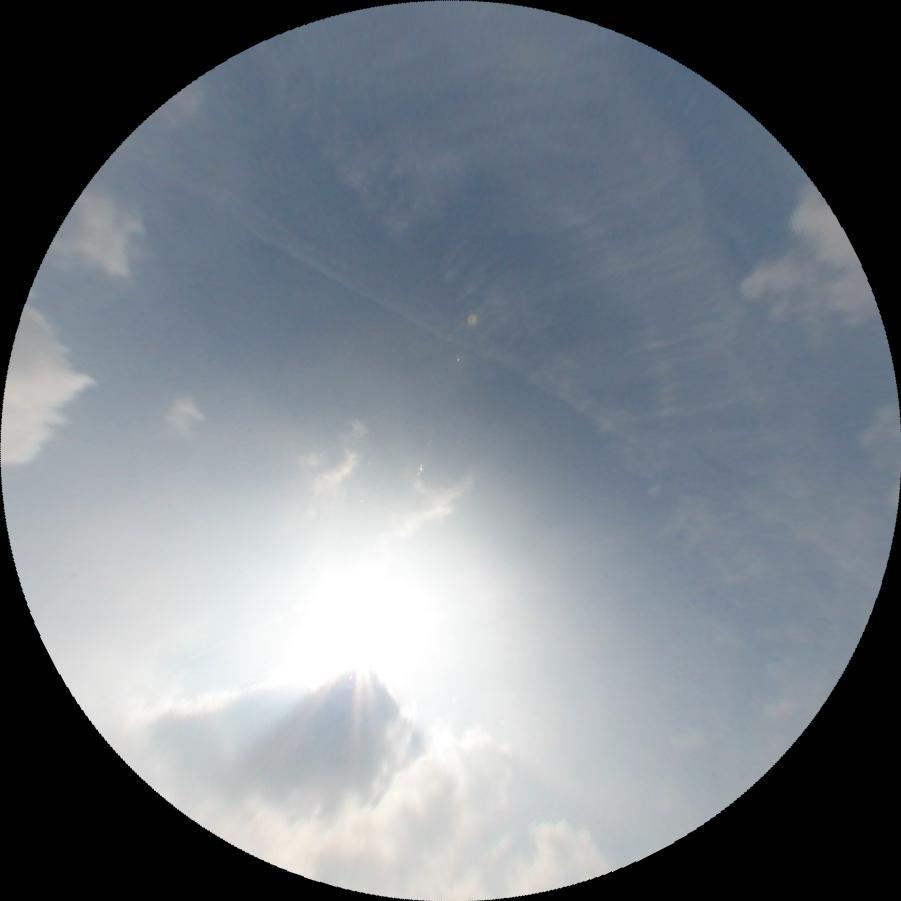contrail veryold: (139, 139, 888, 612)
sun: (275, 570, 474, 736)
